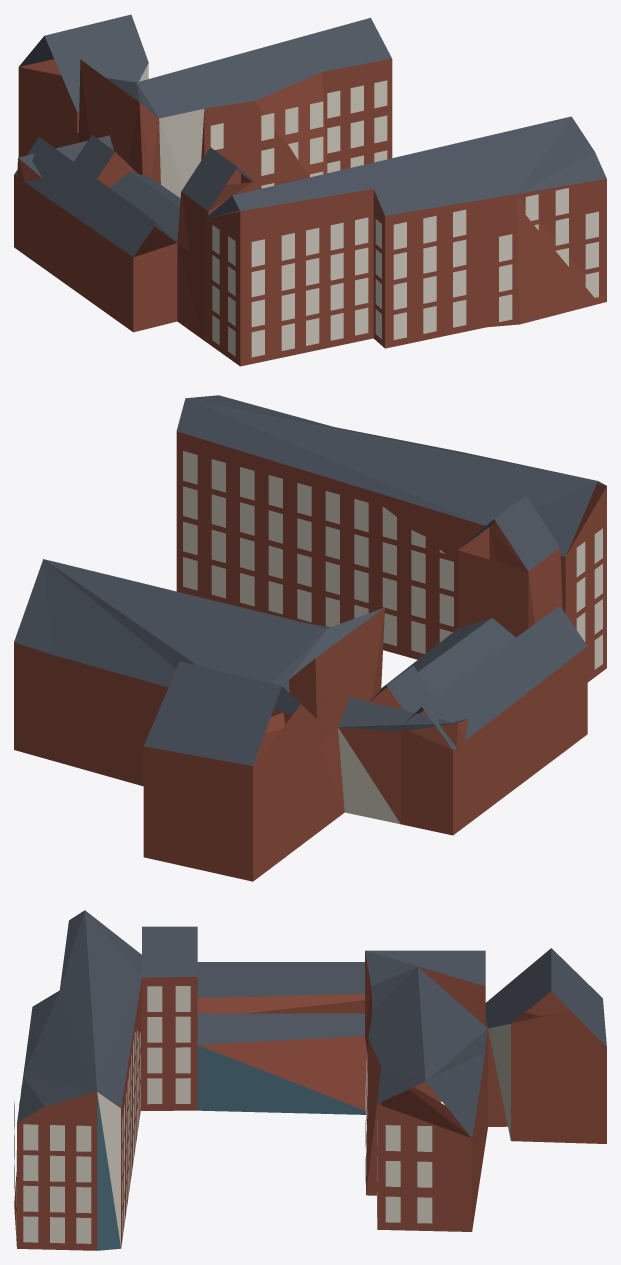
Rendered from sint-jorishof.lod2.glb.
3 views of the same model, one above another, from view 1: azimuth 30°, elevation 25°; view 2: azimuth 150°, elevation 25°; view 3: azimuth 270°, elevation 25° (orthographic). The views are drawn at different scales.
Visible parts, largest first — view 1: lod2; view 2: lod2; view 3: lod2.
Boxes of the visible parts, left/top/right/bottom form: lod2: left=14, top=14, right=606, bottom=366; lod2: left=14, top=395, right=606, bottom=881; lod2: left=14, top=910, right=606, bottom=1250.
Bounding box in the file's own units: 49.92 × 20.05 × 63.88.
